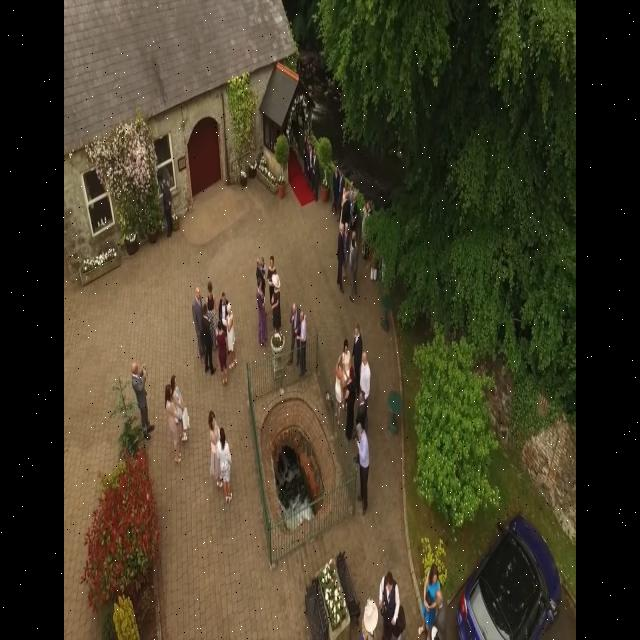humans: (353, 409, 373, 522), (162, 382, 180, 476), (217, 419, 236, 508), (132, 356, 150, 446), (377, 566, 398, 640), (205, 405, 220, 487), (252, 274, 266, 348), (224, 301, 237, 378), (287, 294, 299, 372), (214, 319, 227, 391), (333, 223, 346, 295), (269, 270, 281, 344), (347, 233, 360, 301), (192, 282, 203, 362), (298, 307, 310, 368), (340, 334, 352, 394), (431, 589, 445, 639), (350, 319, 362, 366), (358, 350, 372, 389), (205, 276, 215, 327), (424, 562, 441, 589), (354, 384, 368, 414), (215, 288, 227, 321), (171, 368, 182, 397), (265, 252, 276, 276)
